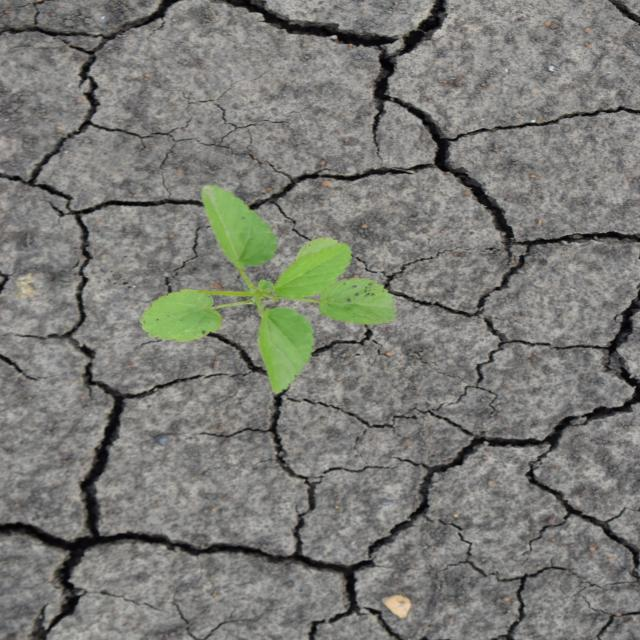PricklySida: (137, 182, 400, 397)
